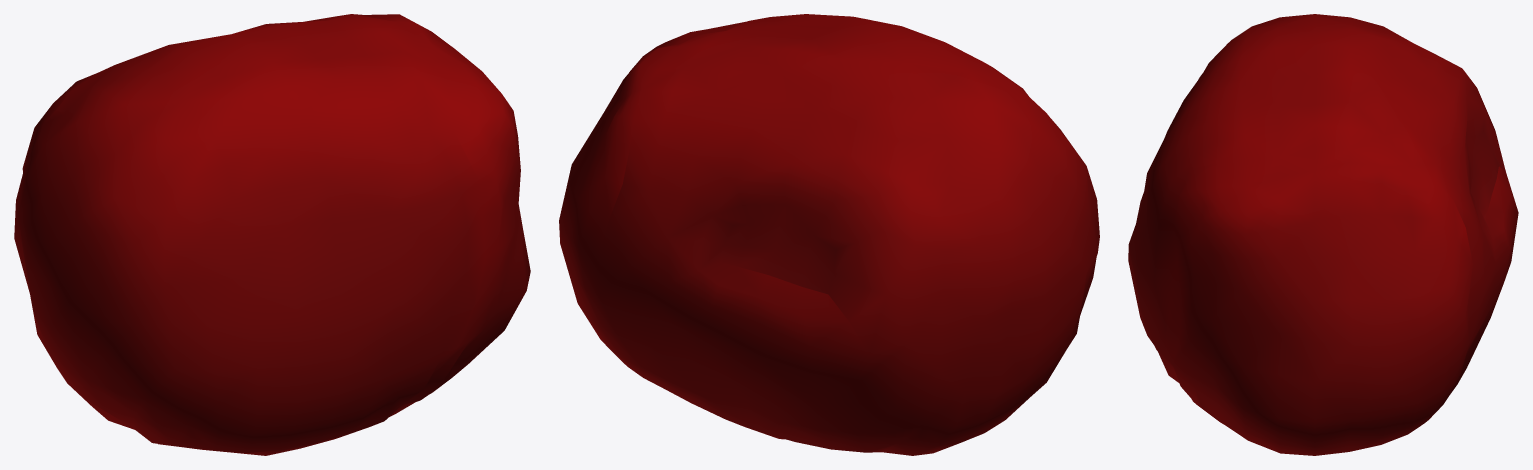
File: geology-rocks-rocklarge_v10.fbx
3 renders of one model, left to right at view 1: azimuth 30°, elevation 25°; view 2: azimuth 150°, elevation 25°; view 3: azimuth 270°, elevation 25°, orthographic. The views are drawn at different scales.
Parts seen in each view (by area): view 1: RockLarge_v10; view 2: RockLarge_v10; view 3: RockLarge_v10.
Part boxes in pixels (x1,y1,x2,y2): RockLarge_v10: [14, 14, 530, 455]; RockLarge_v10: [559, 14, 1099, 455]; RockLarge_v10: [1128, 14, 1518, 455].
Size of the model in its own units: 9.7 by 7.21 by 7.43.
